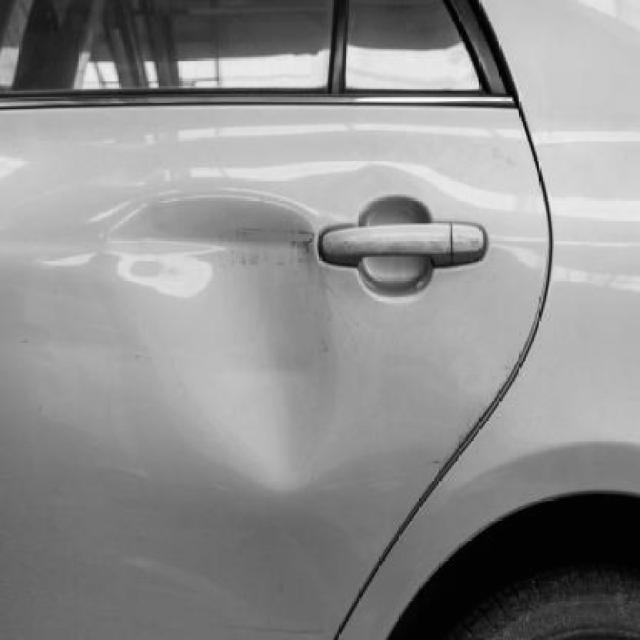minor: (95, 194, 335, 494)
